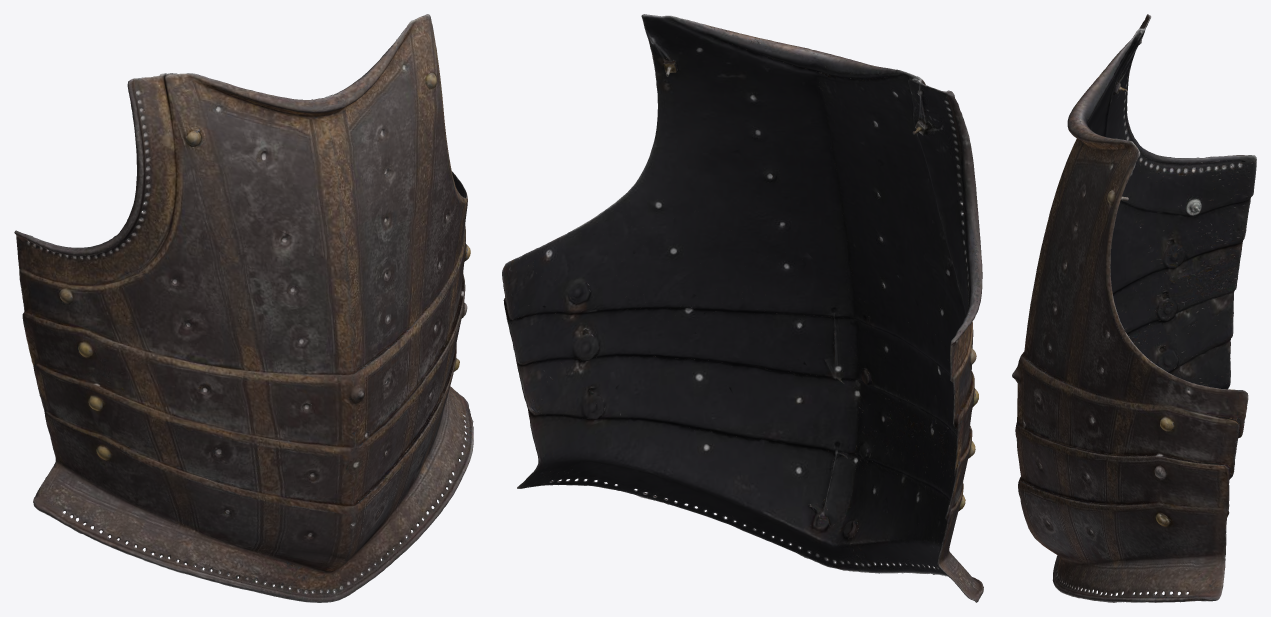
The model's file is armour-breastplate-scan.glb.
3 renders of one model, left to right at view 1: azimuth 30°, elevation 25°; view 2: azimuth 150°, elevation 25°; view 3: azimuth 270°, elevation 25°, orthographic. The views are drawn at different scales.
Visible parts, largest first — view 1: Object_2; view 2: Object_2; view 3: Object_2.
Boxes of the visible parts, <box> form: Object_2: <box>14,14,473,602</box>; Object_2: <box>502,14,983,602</box>; Object_2: <box>1012,14,1256,602</box>.
Size of the model in its own units: 0.3778 by 0.4374 by 0.1953.
1 material, 1 textured.
